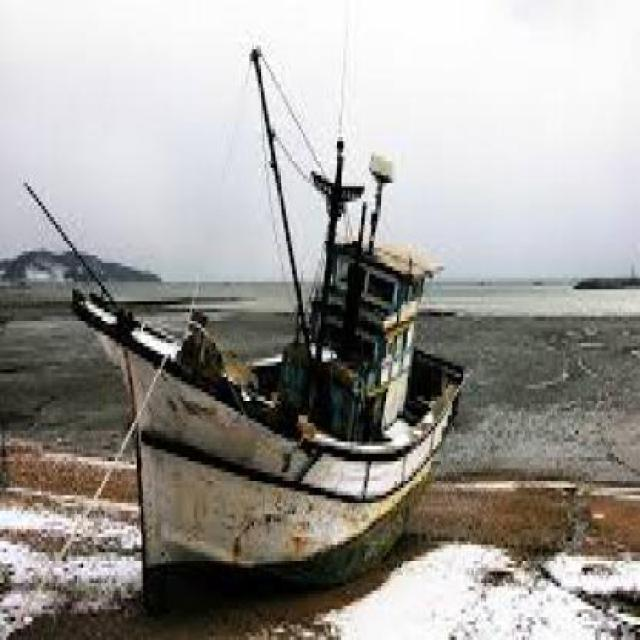fish-b: (10, 50, 484, 615)
